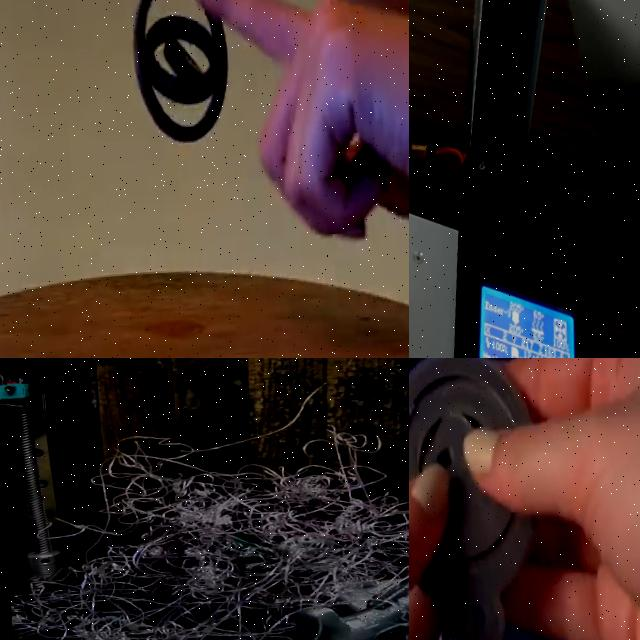spaghetti: (5, 402, 409, 640)
